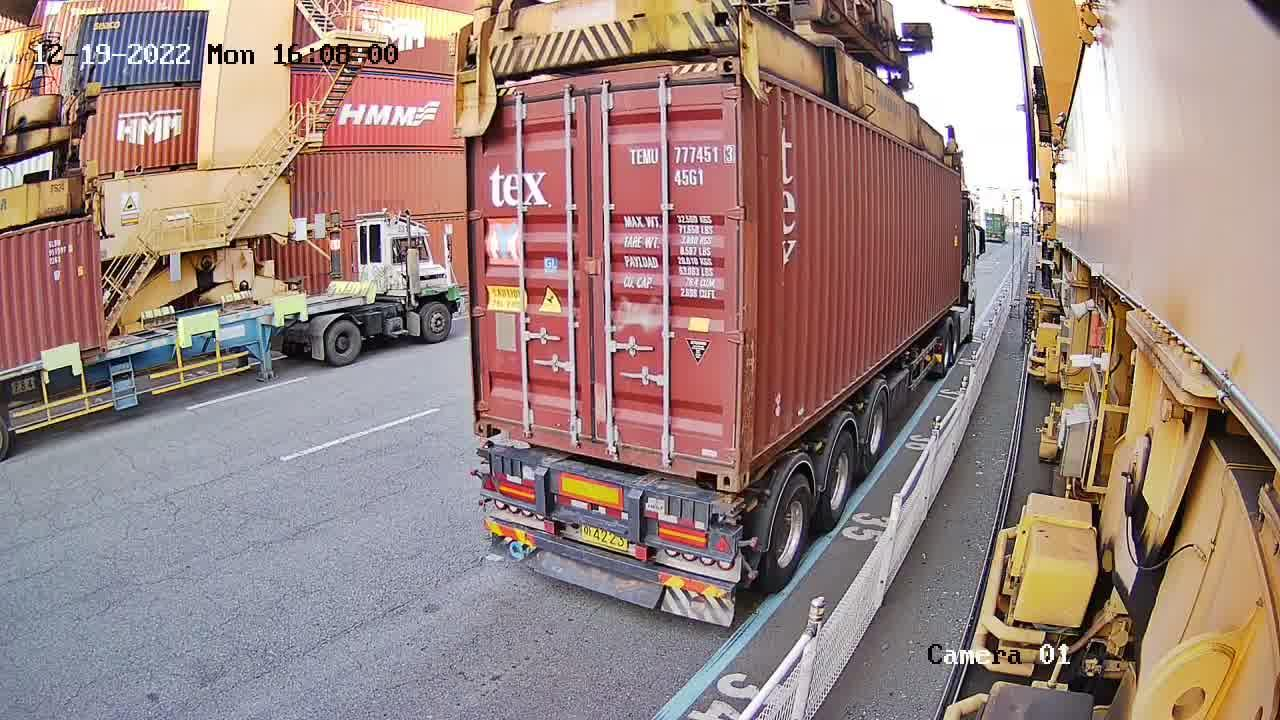Chassis: (479, 441, 739, 559)
Cone: (715, 493, 749, 525), (476, 440, 492, 466)
Hole_L: (736, 436, 768, 492), (475, 400, 512, 438)
Hole_R: (694, 441, 736, 491)
Tire: (765, 476, 814, 589), (823, 433, 857, 527), (864, 392, 890, 470)
